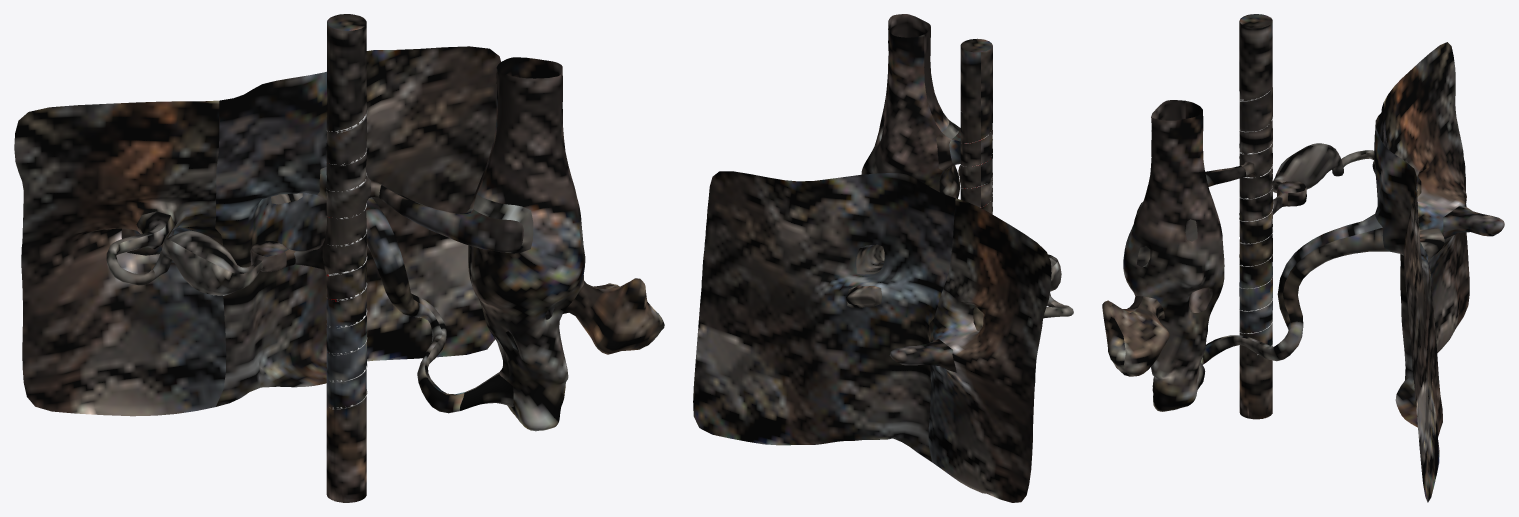
File: Chapter1.fbx
The picture shows the model from 3 angles, left to right: view 1: azimuth 30°, elevation 25°; view 2: azimuth 150°, elevation 25°; view 3: azimuth 270°, elevation 25°; orthographic projection. The views are drawn at different scales.
Visible parts, largest first — view 1: CaveBase.008, CaveBase.007, CaveBase.002, CaveBase.009, FlippedCaveBase.018, FlippedCaveBase.017, FlippedCaveBase.012, FlippedCaveBase.019, CaveBase.003, CaveBase.010, CaveBase.011, CaveBase.005 (+7 smaller); view 2: CaveBase.008, CaveBase.007, FlippedCaveBase.018, CaveBase.002, FlippedCaveBase.017, CaveBase.009, FlippedCaveBase.012, FlippedCaveBase.019, CaveBase.010, CaveBase.003, CaveBase.006; view 3: CaveBase.002, CaveBase.007, CaveBase.009, CaveBase.008, CaveBase.003, FlippedCaveBase.012, FlippedCaveBase.017, CaveBase.011, FlippedCaveBase.019, FlippedCaveBase.018, CaveBase.005, FlippedCaveBase.013 (+5 smaller).
Part boxes in pixels (bbox=[...]): CaveBase.008: bbox=[215, 46, 500, 406]; CaveBase.007: bbox=[14, 100, 226, 416]; CaveBase.002: bbox=[460, 57, 585, 431]; CaveBase.009: bbox=[294, 14, 381, 502]; FlippedCaveBase.018: bbox=[216, 47, 499, 406]; FlippedCaveBase.017: bbox=[14, 101, 225, 415]; FlippedCaveBase.012: bbox=[460, 57, 585, 430]; FlippedCaveBase.019: bbox=[294, 14, 380, 502]; CaveBase.003: bbox=[317, 167, 464, 413]; CaveBase.010: bbox=[379, 184, 533, 253]; CaveBase.011: bbox=[562, 278, 664, 354]; CaveBase.005: bbox=[152, 230, 262, 295]; CaveBase.008: bbox=[693, 171, 955, 461]; CaveBase.007: bbox=[889, 198, 1051, 502]; FlippedCaveBase.018: bbox=[694, 171, 955, 459]; CaveBase.002: bbox=[861, 14, 959, 198]; FlippedCaveBase.017: bbox=[891, 200, 1051, 502]; CaveBase.009: bbox=[958, 38, 992, 214]; FlippedCaveBase.012: bbox=[862, 14, 959, 197]; FlippedCaveBase.019: bbox=[960, 39, 992, 213]; CaveBase.010: bbox=[936, 120, 960, 170]; CaveBase.003: bbox=[856, 244, 884, 274]; CaveBase.006: bbox=[973, 300, 1073, 330]; CaveBase.002: bbox=[1123, 100, 1224, 411]; CaveBase.007: bbox=[1384, 42, 1504, 352]; CaveBase.009: bbox=[1239, 14, 1282, 419]; CaveBase.008: bbox=[1374, 102, 1444, 501]; CaveBase.003: bbox=[1201, 214, 1388, 364]; FlippedCaveBase.012: bbox=[1123, 100, 1224, 411]; FlippedCaveBase.017: bbox=[1384, 43, 1504, 352]; CaveBase.011: bbox=[1102, 296, 1169, 376]; FlippedCaveBase.019: bbox=[1239, 14, 1282, 418]; FlippedCaveBase.018: bbox=[1374, 103, 1444, 502]; CaveBase.005: bbox=[1273, 143, 1343, 192]; FlippedCaveBase.013: bbox=[1201, 216, 1385, 362].
Size of the model in its own units: 60438 by 58344 by 54388.
